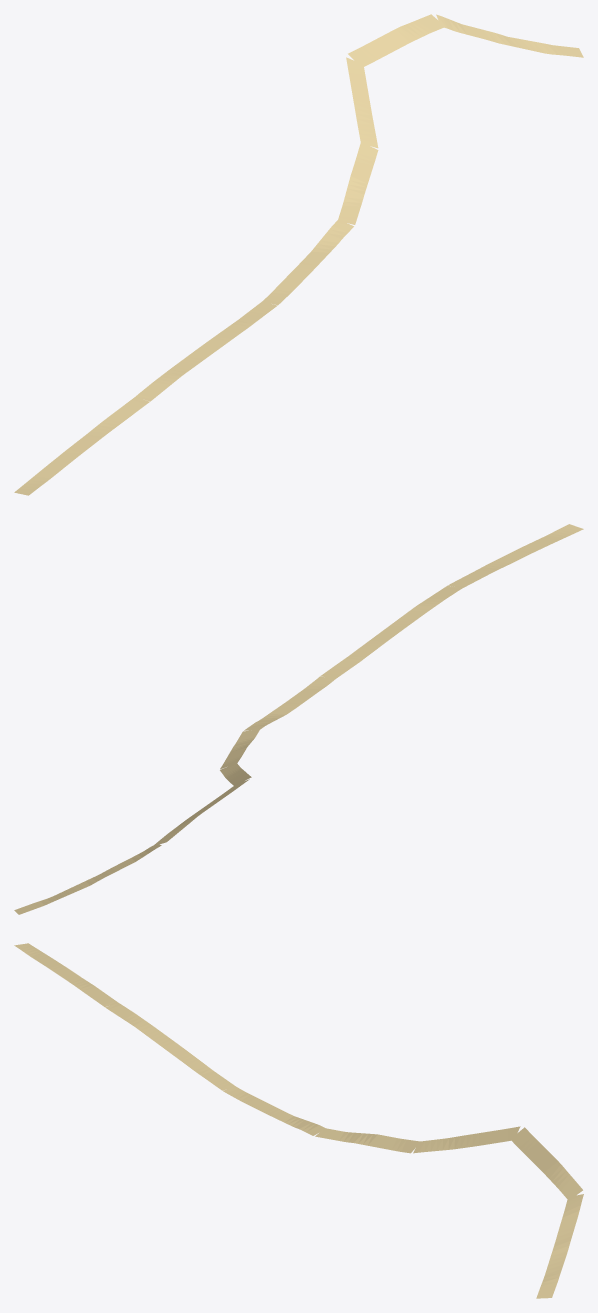
Rendered from Trail_07.glb.
The picture shows the model from 3 angles, top to bottom: view 1: azimuth 30°, elevation 25°; view 2: azimuth 210°, elevation 25°; view 3: azimuth 270°, elevation 25°; orthographic projection. The views are drawn at different scales.
Visible parts, largest first — view 1: Trail_07; view 2: Trail_07; view 3: Trail_07.
Boxes of the visible parts, <box> form: Trail_07: <box>14,14,583,495</box>; Trail_07: <box>14,524,583,914</box>; Trail_07: <box>14,943,583,1298</box>.
Size of the model in its own units: 97.36 by 10.35 by 61.45.
